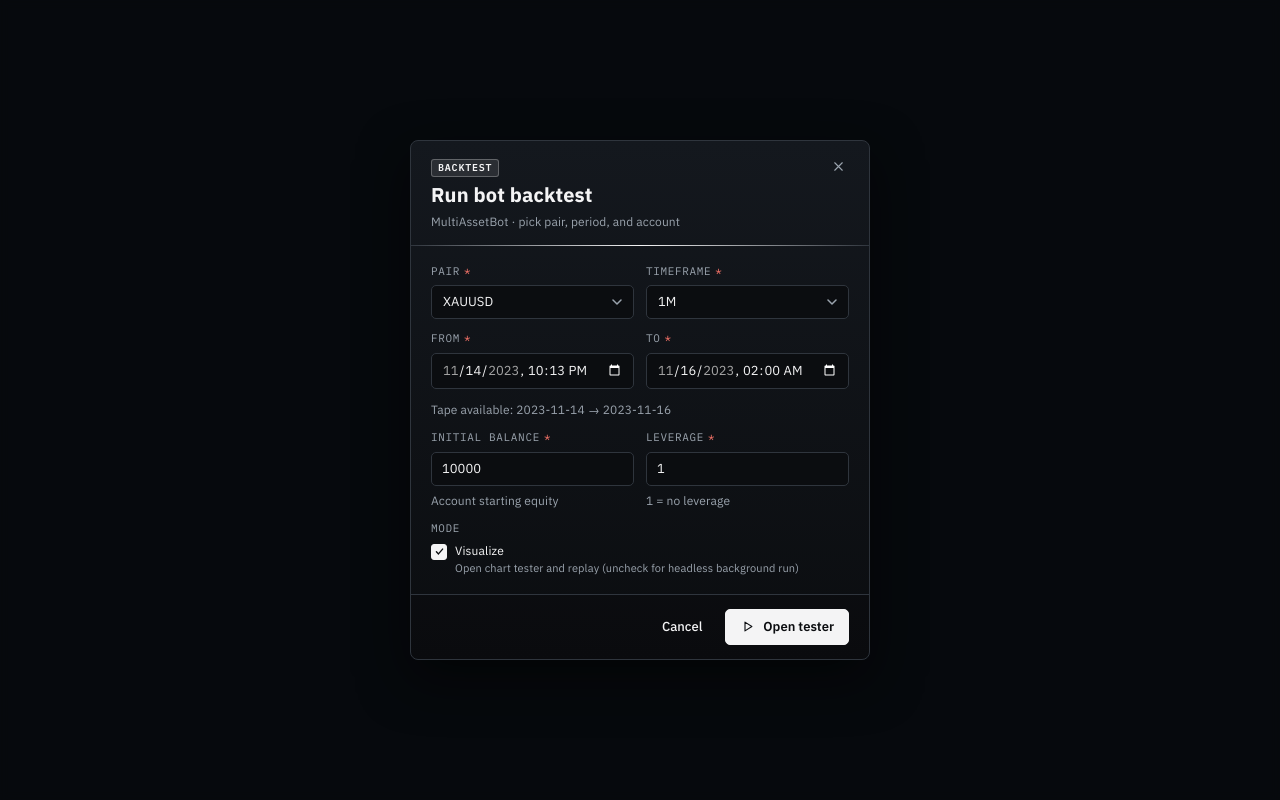
it: Empirical Challenger M4: Panels, Desks, Buttons & Forms Stress Suite › BotBacktestModal: Pair / Timeframe Transitions & Full Valid Submit › switches symbol and timeframe, recalibrating tape range and submittable config
Later steps or results of the test are not shown.
Note: Change Pair to EURUSD
Click the button with aria-label "pair" at [532, 302], box [431, 285, 634, 319]
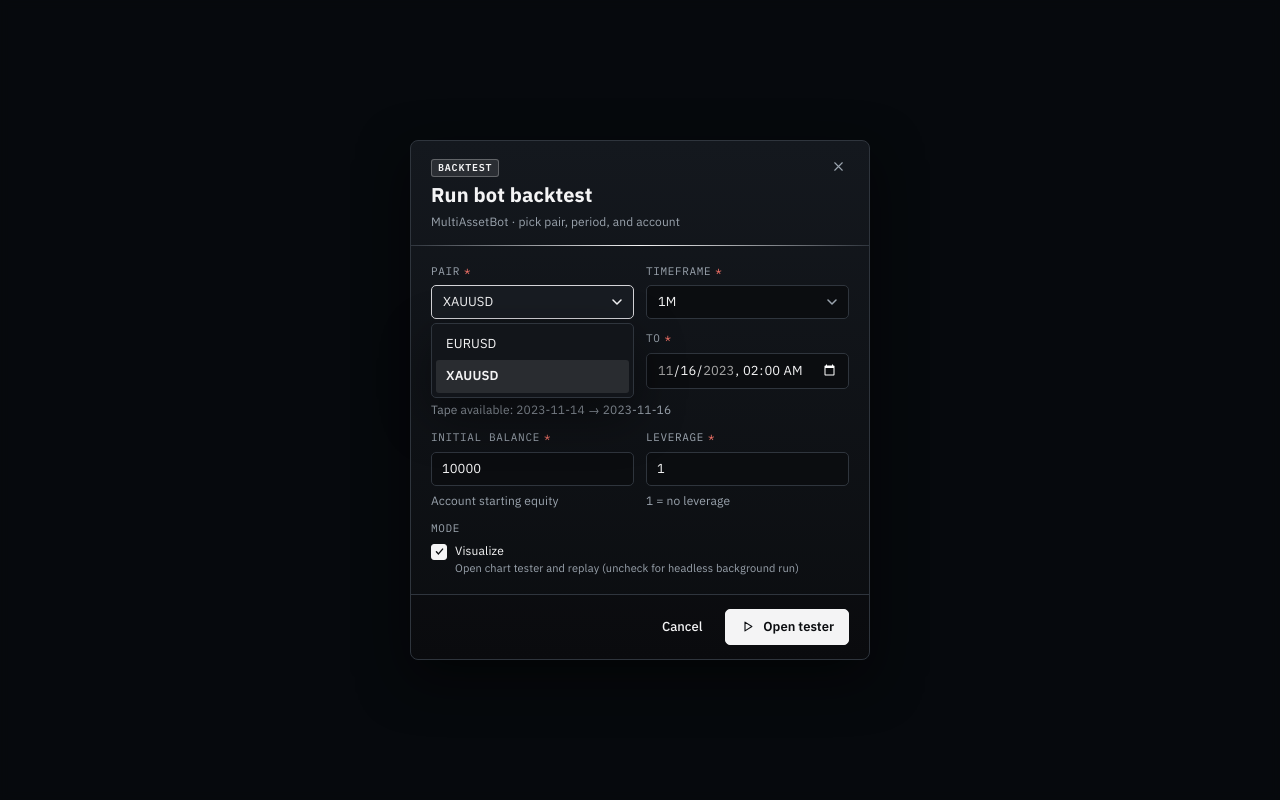
Click the option "EURUSD" at [471, 344], box [446, 335, 496, 352]
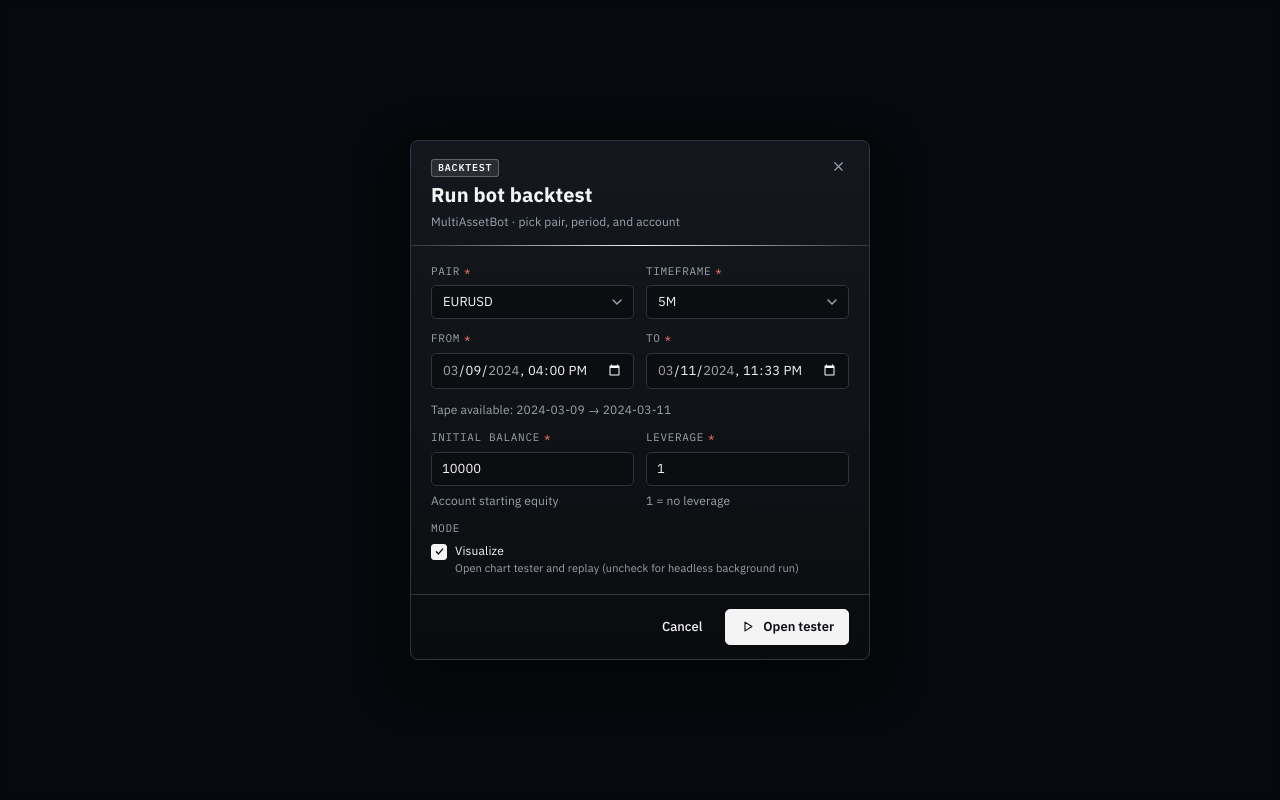
expect the button named "timeframe" reads "5M": met, box [646, 285, 849, 319]
